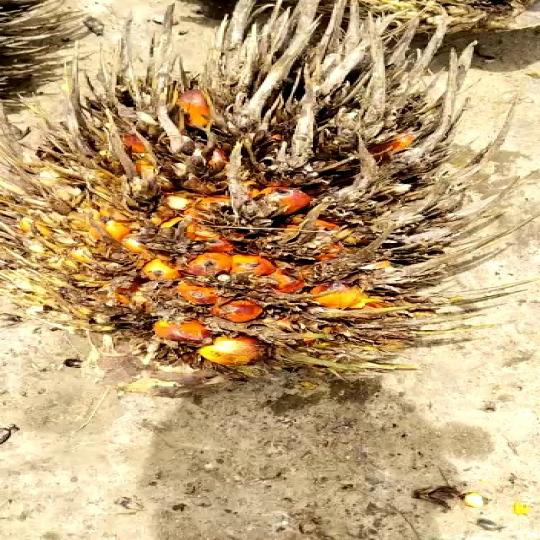terlalu masak: (0, 0, 540, 393)
